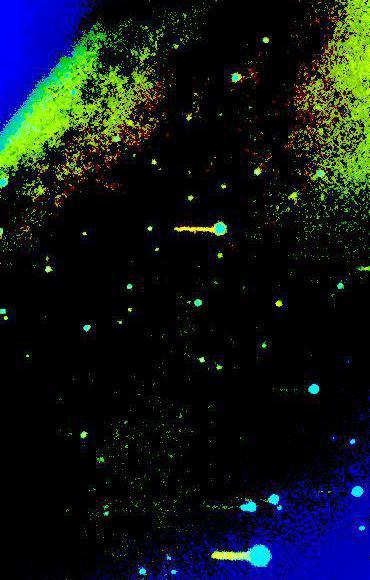star: (264, 290, 294, 320)
